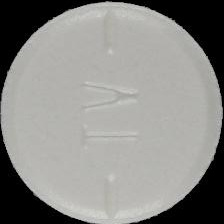0172-4096: (0, 0, 224, 224)
